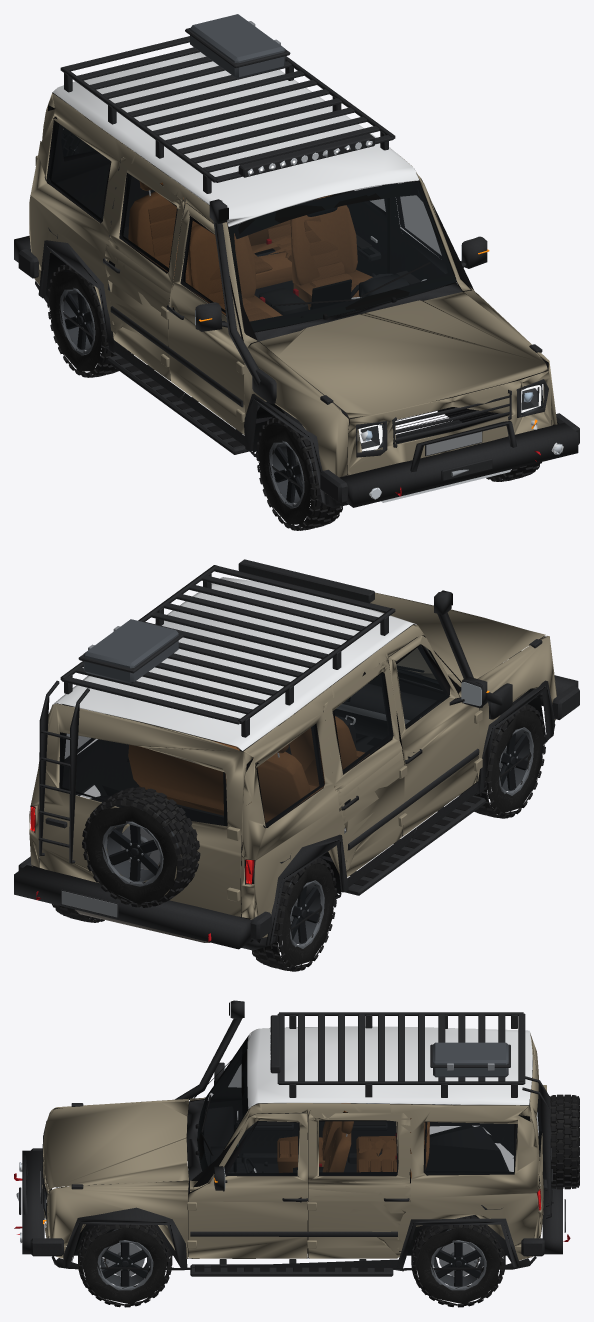
The model's file is boxy-off-roader.glb.
3 views of the same model, one above another, from view 1: azimuth 30°, elevation 25°; view 2: azimuth 150°, elevation 25°; view 3: azimuth 270°, elevation 25° (orthographic). The views are drawn at different scales.
Parts seen in each view (by area): view 1: Body, Wheel_FR, Wheel_RR; view 2: Body, Spare_Wheel, Wheel_RR, Wheel_FR; view 3: Body, Wheel_FL, Wheel_RL, Spare_Wheel.
Boxes of the visible parts, x1=… form: Body: x1=14, y1=14, x2=579, y2=507; Wheel_FR: x1=256, y1=413, x2=342, y2=530; Wheel_RR: x1=47, y1=263, x2=133, y2=377; Body: x1=14, y1=559, x2=579, y2=950; Spare_Wheel: x1=82, y1=787, x2=200, y2=907; Wheel_RR: x1=250, y1=857, x2=336, y2=971; Wheel_FR: x1=459, y1=704, x2=545, y2=818; Body: x1=14, y1=1000, x2=570, y2=1276; Wheel_FL: x1=78, y1=1224, x2=172, y2=1307; Wheel_RL: x1=411, y1=1216, x2=505, y2=1307; Spare_Wheel: x1=549, y1=1094, x2=579, y2=1189.
Bounding box in the file's own units: 2.29 × 2.21 × 4.86.
Materials: 67 (11 with a texture image).
